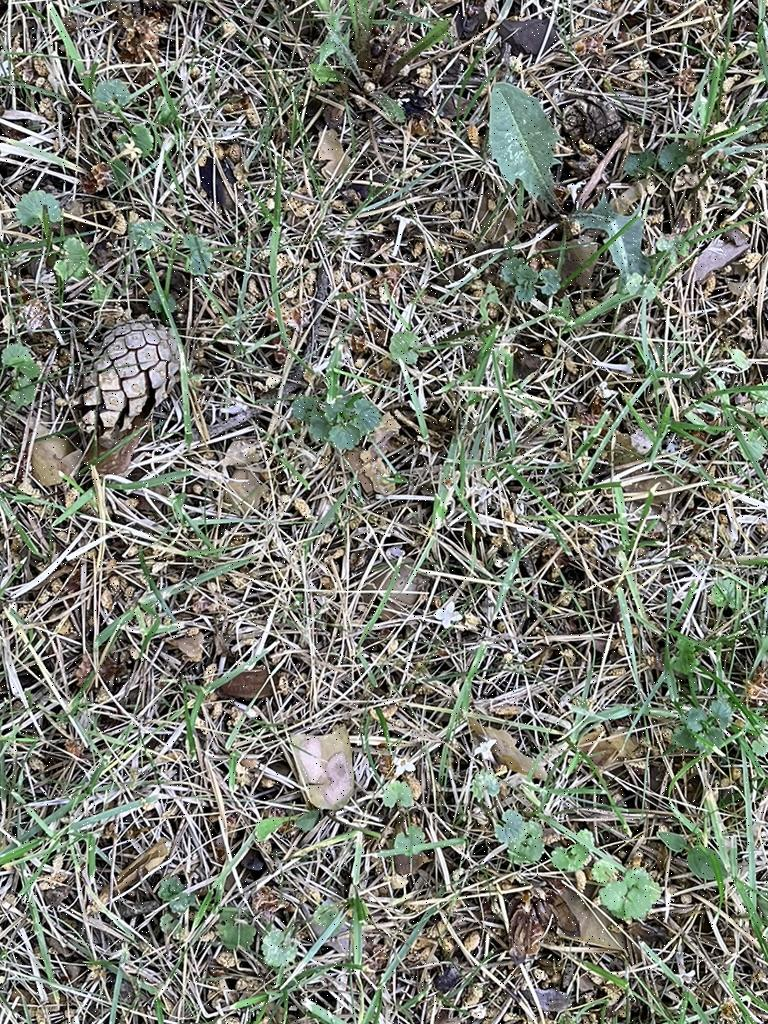pine: (71, 313, 191, 450), (541, 78, 648, 163)
